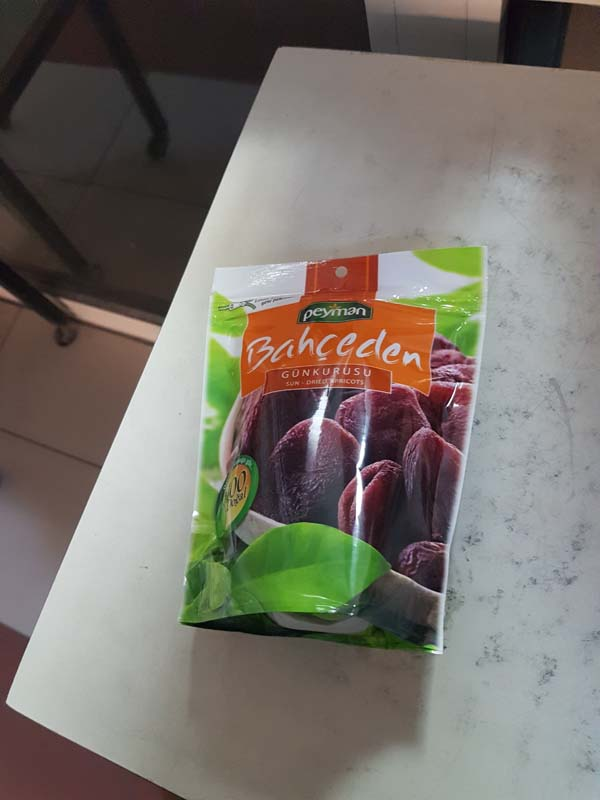bahcedengunkurusu: (172, 237, 492, 693)
